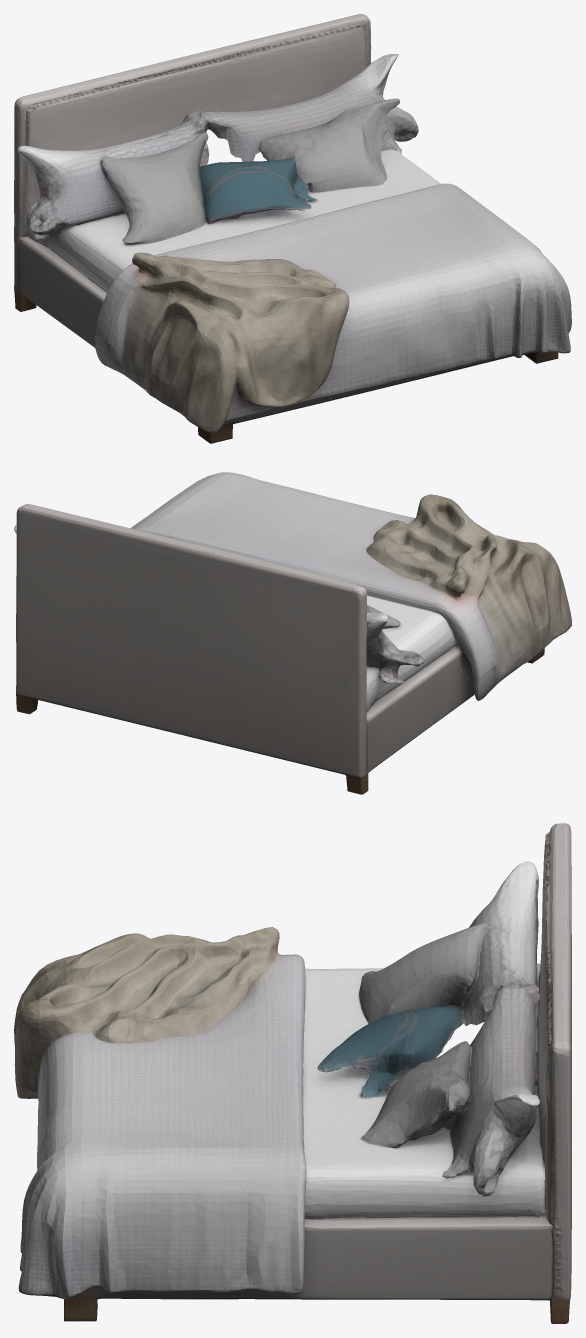
Rendered from 002_bed-001_local_pivot.glb.
3 views of the same model, one above another, from view 1: azimuth 30°, elevation 25°; view 2: azimuth 150°, elevation 25°; view 3: azimuth 270°, elevation 25° (orthographic). The views are drawn at different scales.
Visible parts, largest first — view 1: world; view 2: world; view 3: world.
Part boxes in pixels (x1,y1,x2,y2): world: (14,14,571,443); world: (14,472,571,794); world: (14,823,571,1323).
Bounding box in the file's own units: 0.9222 × 0.473 × 0.8602.
Materials: 1 (1 with a texture image).
